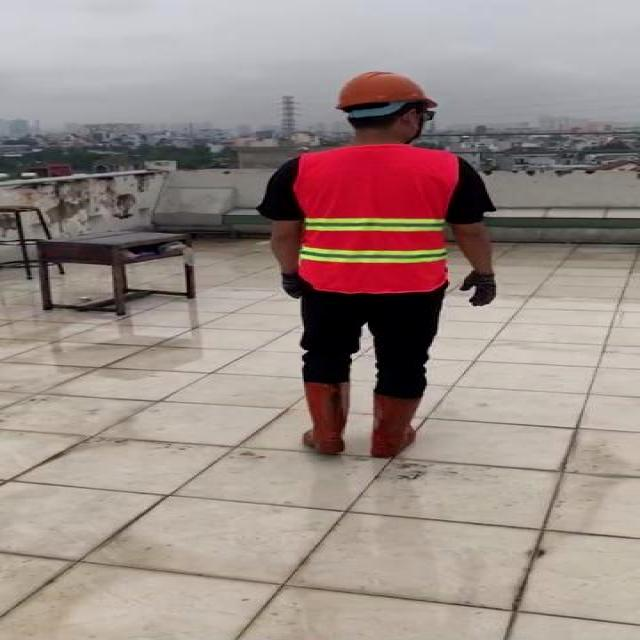boots: (368, 395, 427, 460), (300, 381, 350, 454)
hand_glove: (458, 272, 499, 307), (279, 272, 304, 299)
head_helmet: (337, 67, 447, 109)
person: (256, 64, 512, 464)
vest: (297, 145, 464, 291)
